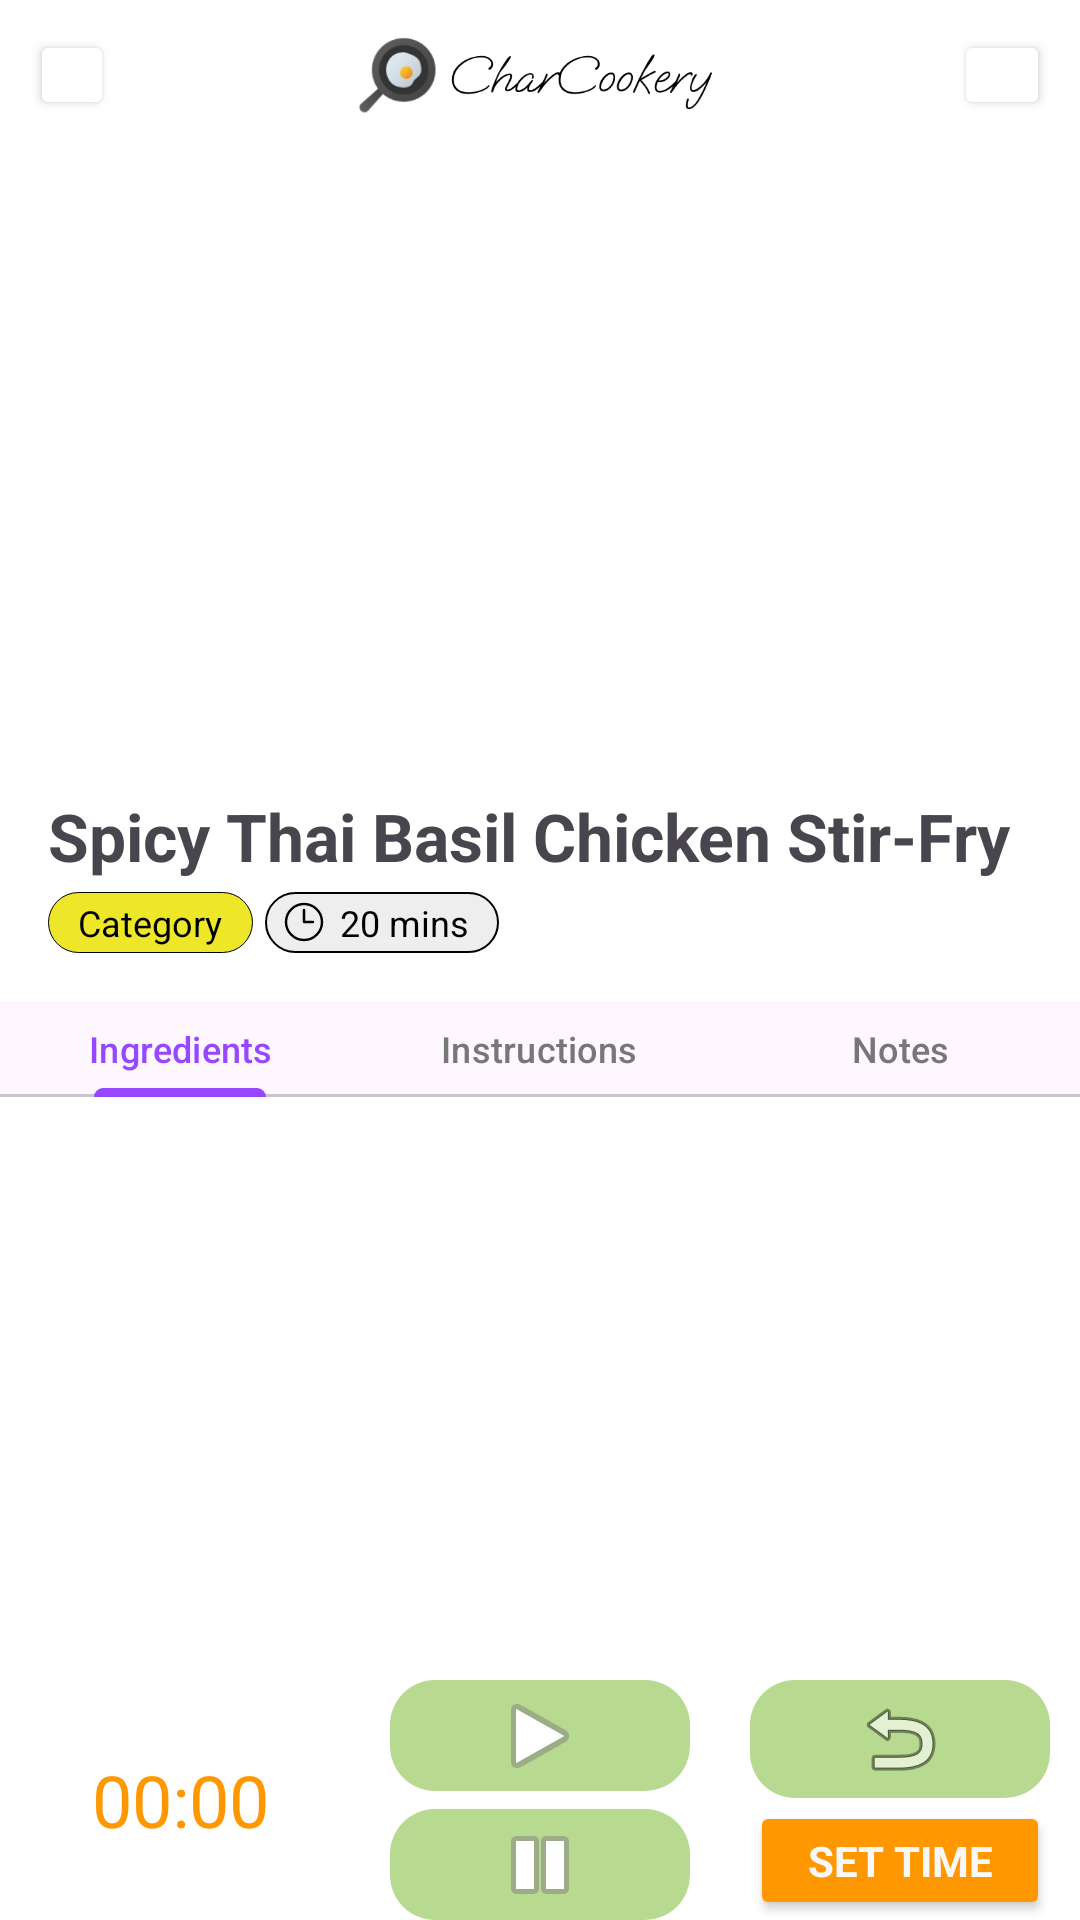

Icons on this 1080 × 1920 Android screen, each with the point to tap as (x,y):
pause: (540,1864)
play: (540,1735)
revert: (900,1739)
